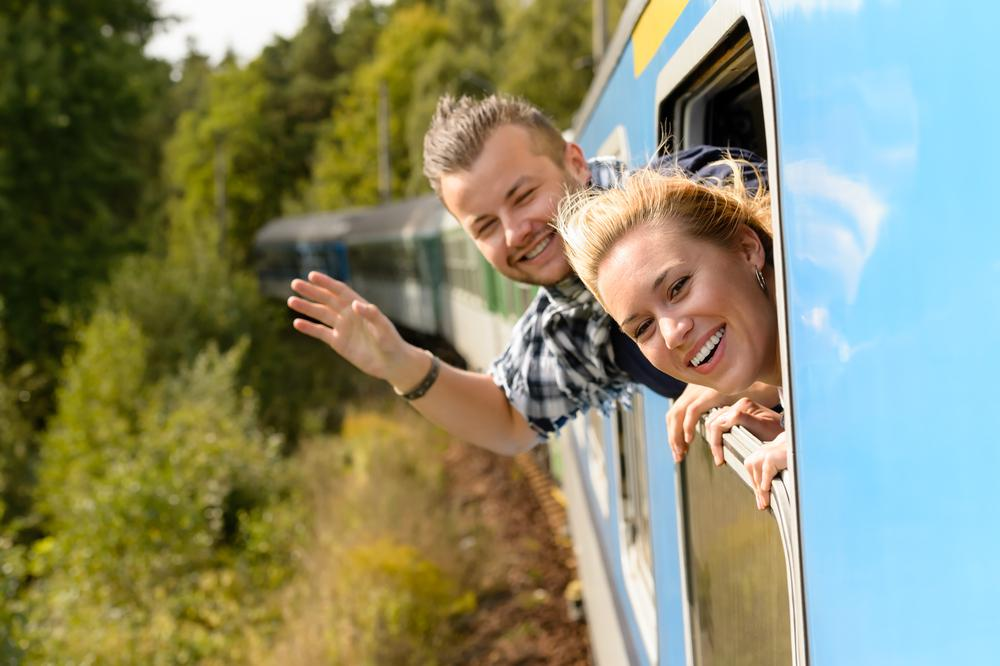without_mask: (608, 243, 758, 397), (447, 152, 569, 284)
